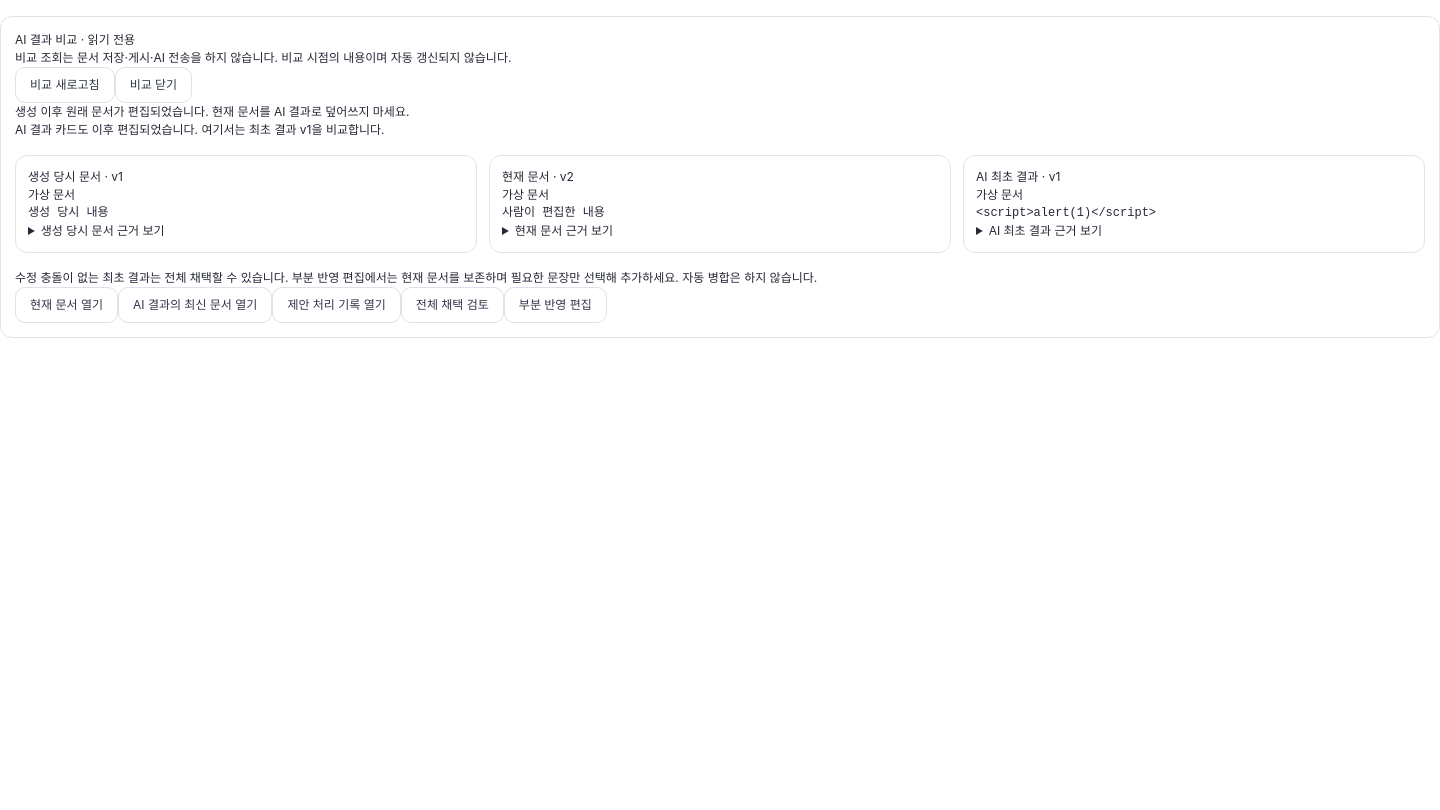
Test: 처리 기록을 명시적으로 열기 전에는 추가 조회나 저장을 하지 않는다
Expected: the element labelled "생성 당시 문서" is shown, top-left (15, 155), bottom-right (477, 253)
Click the button "제안 처리 기록 열기" at (337,305), box top-left (272, 287), bottom-right (401, 323)
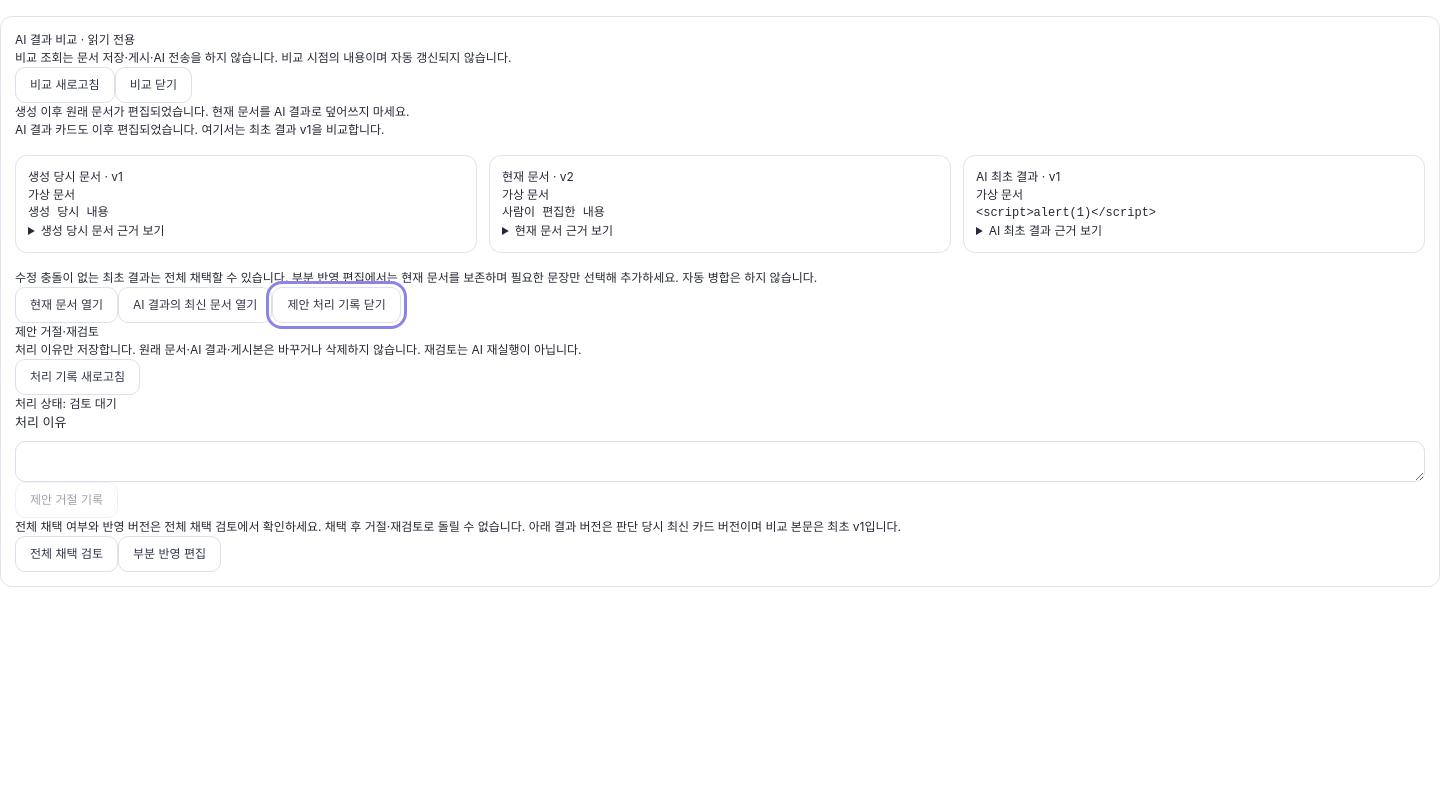
Now the text "처리 상태: 검토 대기" is shown, box top-left (15, 396), bottom-right (117, 411)
